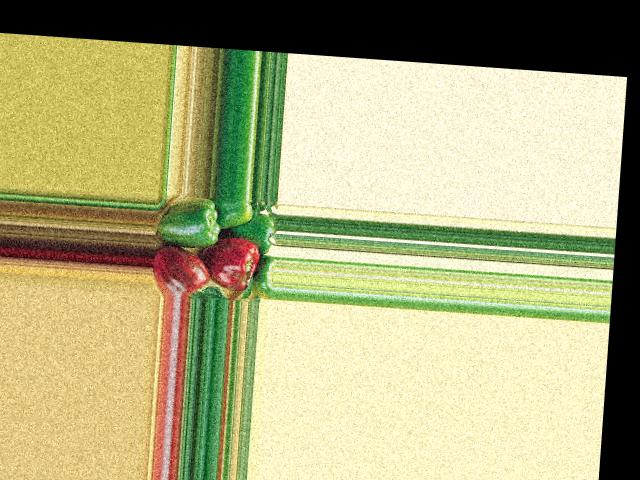bell_pepper: (151, 247, 211, 297)
